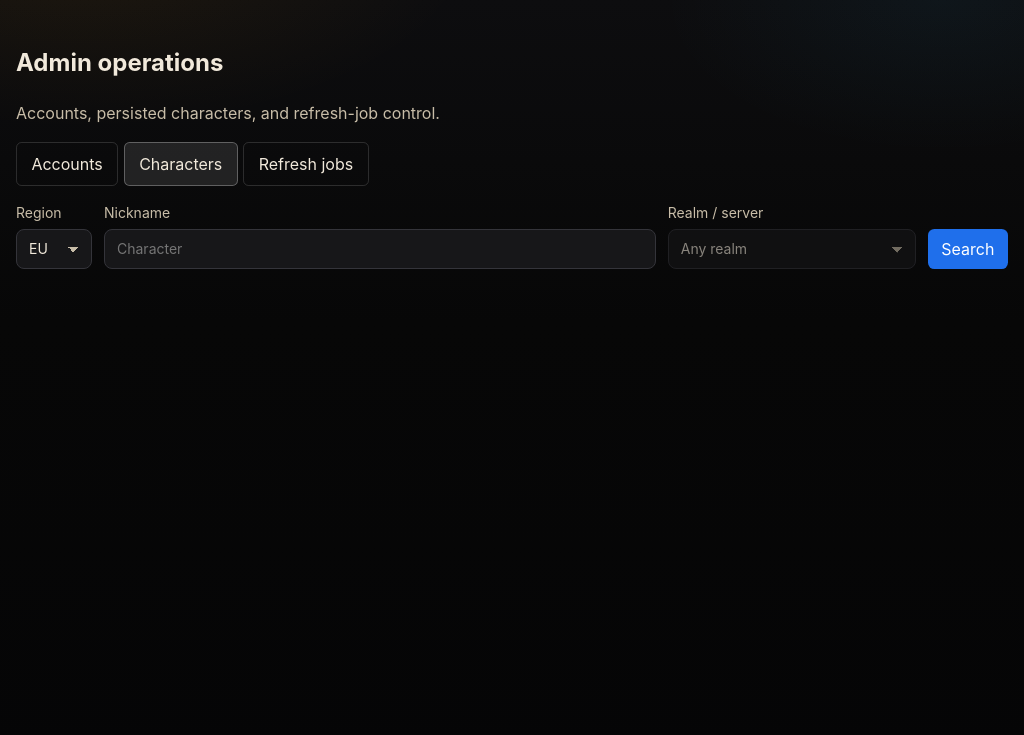
Test case: AdminUsersPage UI consistency › renders compact job rows with identity, model version, and status chip
Click the button with test id "tab-refresh-jobs".
click(306, 164)  # box [243, 142, 369, 186]
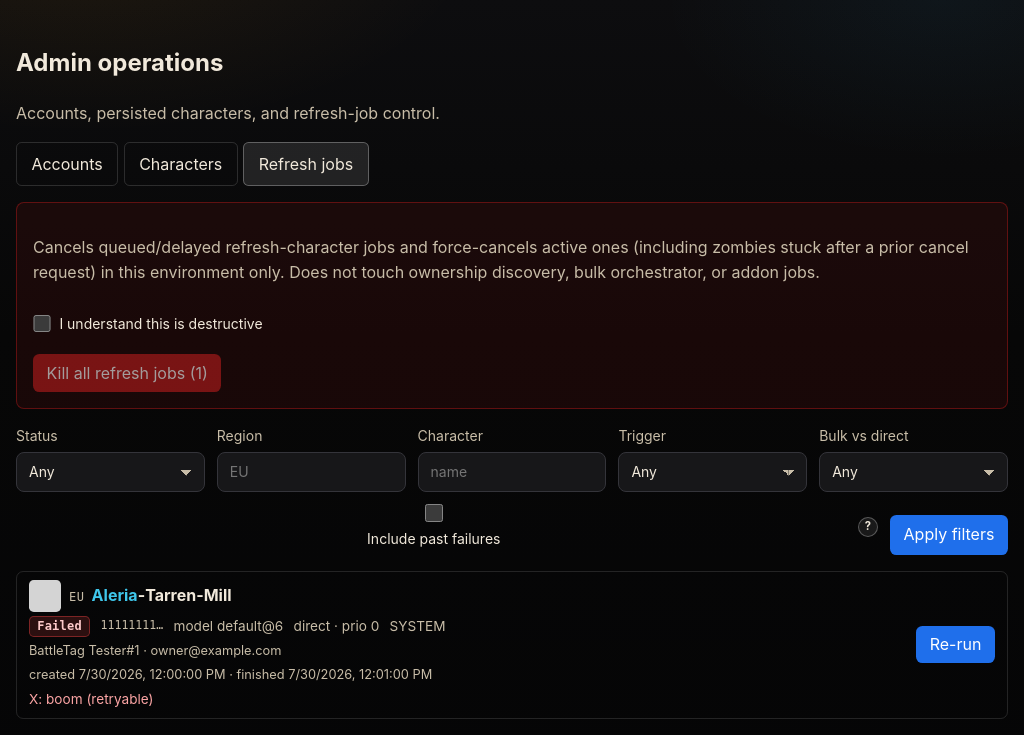
expect the list item with test id "job-row" is shown: met, box [16, 571, 1008, 719]
expect the list item with test id "job-row" shows "EU": met, box [29, 580, 232, 612]
expect the list item with test id "job-row" shows "Aleria": met, box [29, 580, 232, 612]
